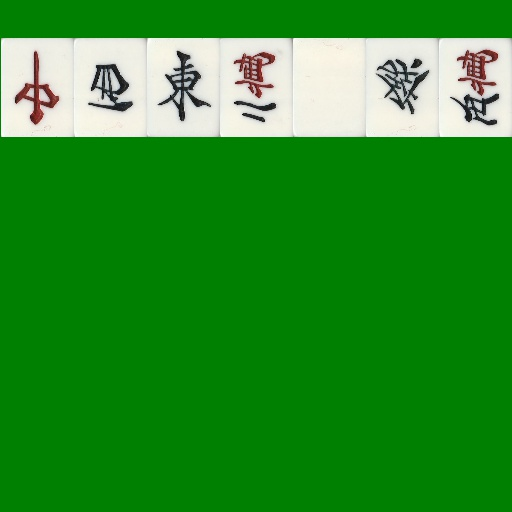2m: (220, 38, 293, 137)
5m: (439, 38, 512, 137)
east: (147, 38, 220, 137)
hatsu: (366, 38, 439, 137)
tyun: (1, 38, 74, 137)
west: (74, 38, 147, 137)
white: (293, 38, 366, 137)
